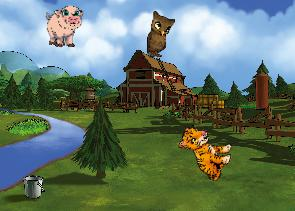owl: (147, 11, 175, 58)
pig: (44, 5, 84, 48)
tiger: (171, 123, 237, 183)
